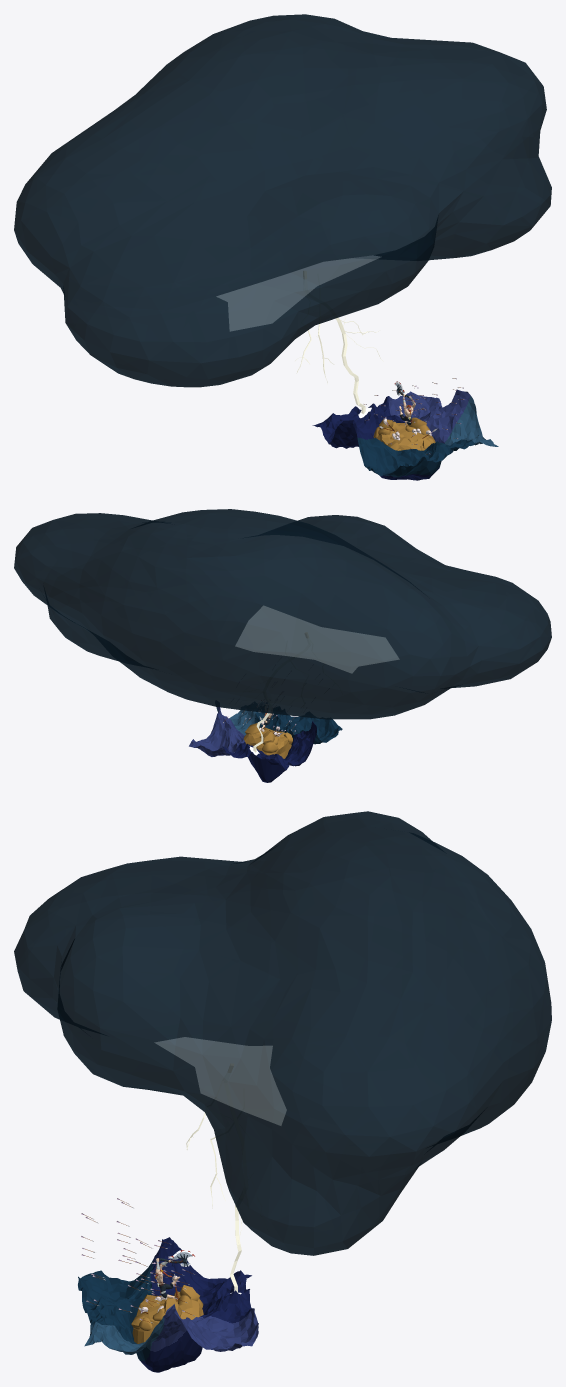
File: viking_s_death.glb
3 renders of one model, top to bottom at view 1: azimuth 30°, elevation 25°; view 2: azimuth 150°, elevation 25°; view 3: azimuth 270°, elevation 25°, orthographic. The views are drawn at different scales.
Parts seen in each view (by area): view 1: Mball.008, Plane.004, Mball.000, Plane, rock_001.001; view 2: Mball.008, Mball.000, Plane.004, Plane, rock_001.001; view 3: Mball.008, Plane.004, Mball.000, Plane, rock_001.001.
Part boxes in pixels (x1,y1,x2,y2): Mball.008: (14,14,551,387); Plane.004: (312,389,498,478); Mball.000: (217,256,379,330); Plane: (376,423,438,480); rock_001.001: (373,417,434,450); Mball.008: (14,509,551,719); Mball.000: (236,606,398,672); Plane.004: (189,707,342,778); Plane: (243,729,291,782); rock_001.001: (245,723,292,753); Mball.008: (14,811,551,1255); Plane.004: (78,1237,258,1364); Mball.000: (156,1037,286,1125); Plane: (132,1295,203,1372); rock_001.001: (131,1285,203,1330).
Size of the model in its own units: 6.92 by 4.78 by 4.85.
Materials: 14 (14 with a texture image).
